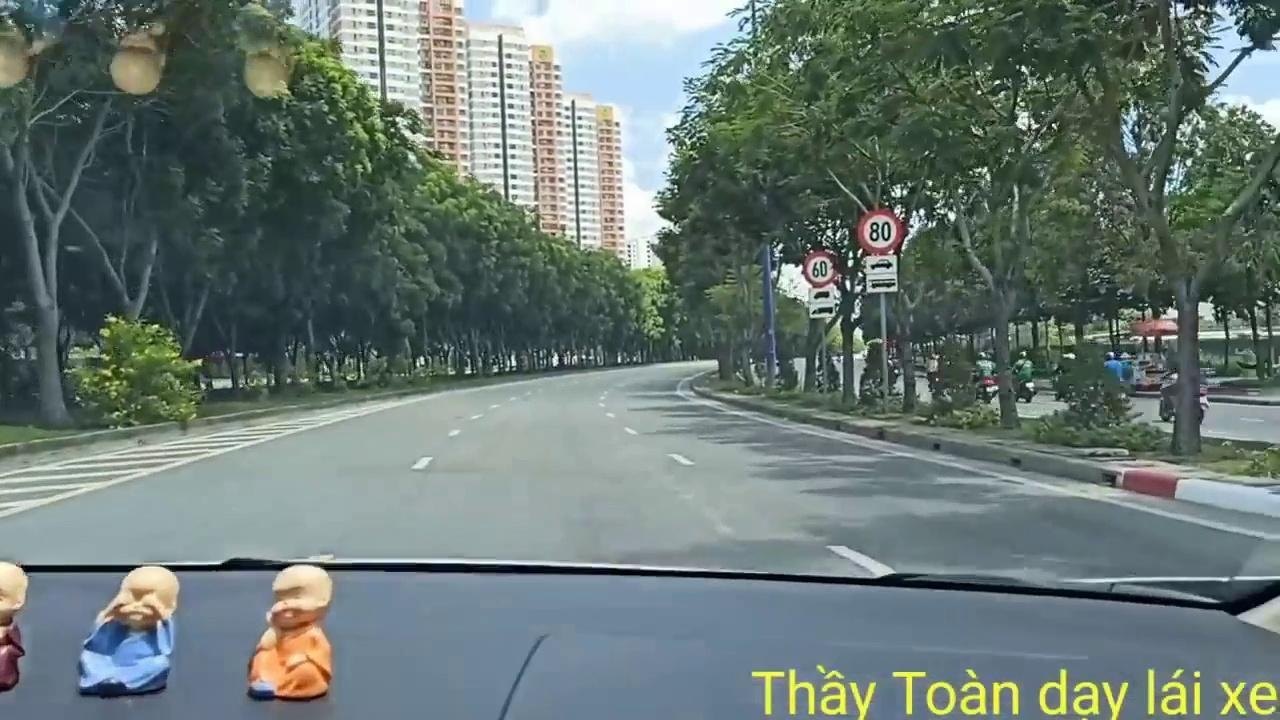Biển phụ: (864, 252, 900, 294), (806, 289, 836, 320)
GIơi hạn tốc độ 60Km/h: (801, 248, 840, 288)
Giới hạn tốc độ 80Km/h: (856, 207, 904, 255)
